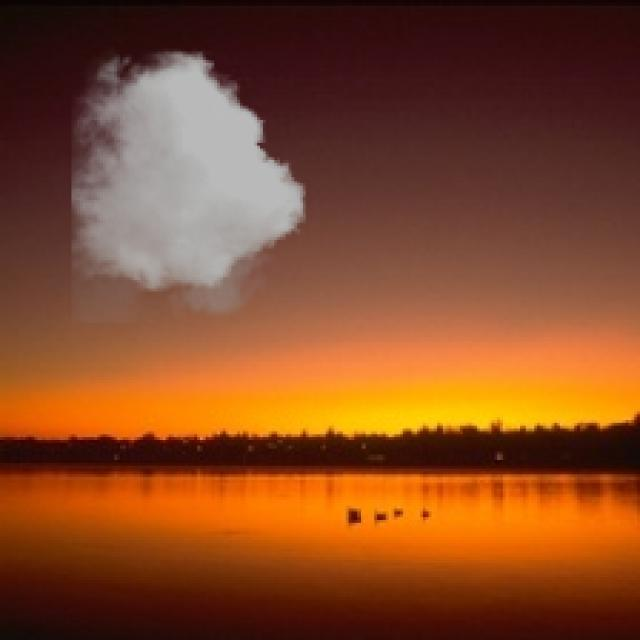Smoke: (71, 46, 306, 323)
